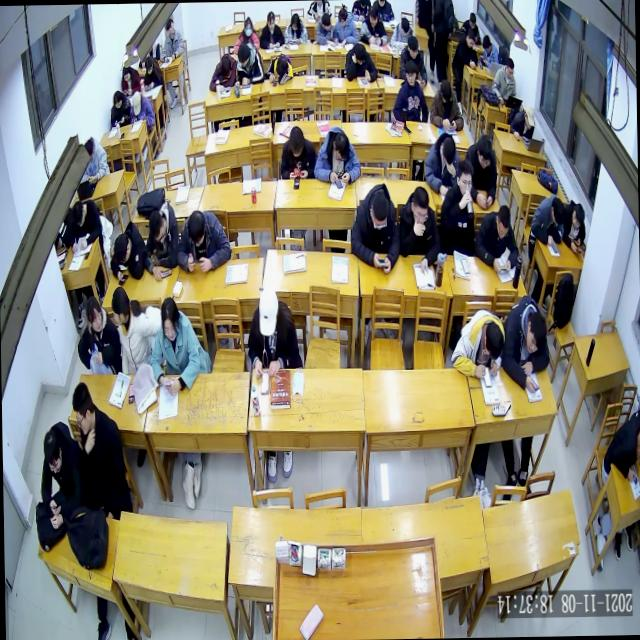bow: (500, 294, 552, 393), (451, 307, 506, 376), (108, 220, 148, 288), (278, 122, 317, 182), (526, 193, 566, 247), (69, 196, 101, 252), (561, 198, 587, 254), (234, 39, 264, 87), (344, 40, 378, 82), (208, 50, 236, 91), (265, 51, 293, 86), (388, 15, 416, 50), (314, 10, 333, 46)
down: (258, 282, 280, 336), (524, 309, 548, 354), (483, 318, 505, 364), (42, 430, 64, 474), (410, 183, 430, 228), (368, 190, 389, 231), (186, 208, 206, 251), (112, 231, 132, 265), (476, 133, 494, 170), (494, 204, 512, 240), (148, 210, 166, 246), (332, 131, 351, 163), (288, 124, 306, 157), (441, 135, 456, 168), (550, 195, 564, 227), (71, 200, 86, 228), (439, 78, 453, 108), (571, 202, 585, 230), (83, 137, 96, 164), (406, 34, 419, 60), (219, 56, 233, 80), (237, 42, 250, 67), (130, 90, 142, 116), (274, 55, 288, 77), (523, 106, 535, 130), (367, 5, 378, 28), (504, 57, 514, 81), (400, 15, 410, 38), (111, 89, 122, 109), (266, 10, 276, 32), (337, 8, 348, 28), (481, 34, 492, 54), (144, 55, 154, 75), (290, 12, 300, 32), (466, 28, 476, 48), (120, 63, 130, 82), (468, 11, 477, 31)
lookup: (158, 296, 180, 342), (456, 157, 473, 198), (403, 61, 418, 88), (243, 18, 253, 38)
sit: (70, 380, 134, 522), (147, 292, 207, 396), (38, 417, 88, 532), (244, 282, 303, 378), (348, 180, 402, 274), (110, 284, 153, 382), (436, 157, 477, 257), (75, 293, 122, 379), (175, 204, 231, 274), (398, 183, 440, 271), (142, 200, 181, 284), (474, 204, 520, 275), (311, 123, 360, 188), (463, 131, 498, 208), (422, 129, 462, 196), (601, 414, 640, 482), (391, 59, 428, 122), (428, 77, 464, 135), (399, 33, 428, 88), (81, 134, 111, 184), (70, 379, 94, 436), (491, 56, 517, 106), (330, 6, 360, 48), (359, 4, 388, 46), (451, 27, 479, 70), (158, 16, 184, 62), (232, 15, 260, 54), (258, 9, 284, 50), (129, 90, 155, 130), (508, 105, 536, 142), (110, 88, 132, 130), (283, 12, 309, 45), (141, 55, 163, 91), (120, 62, 142, 97), (478, 34, 499, 70), (463, 10, 481, 46)
